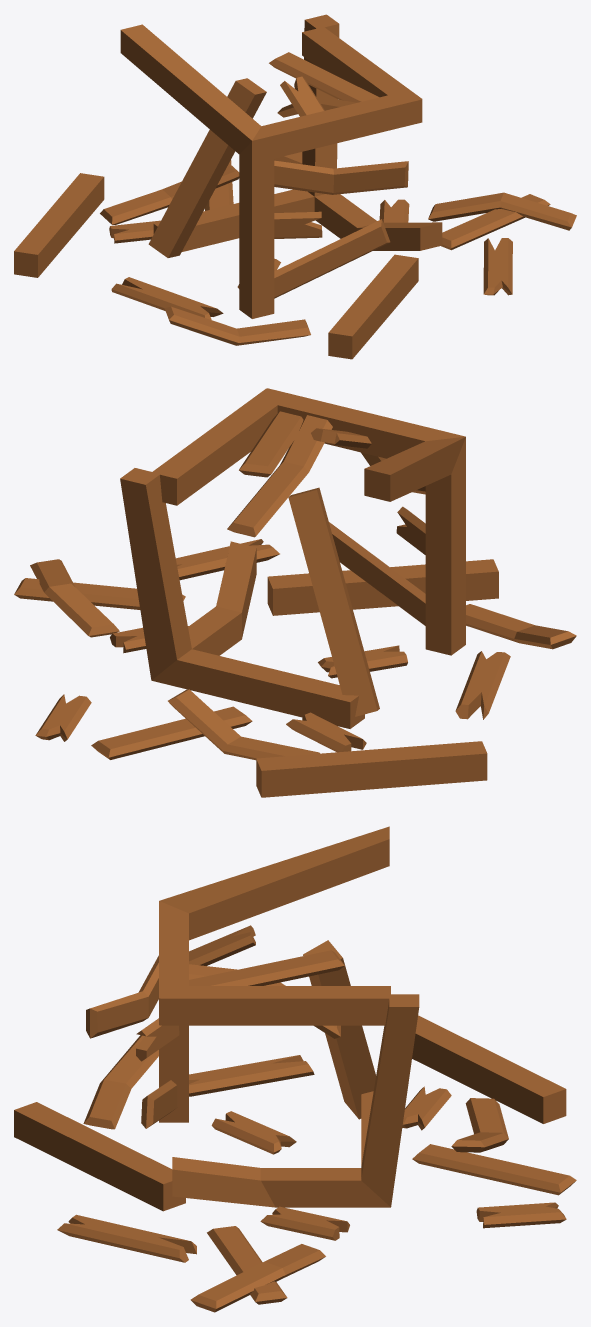
File: rubble_001.glb
3 views of the same model, one above another, from view 1: azimuth 30°, elevation 25°; view 2: azimuth 150°, elevation 25°; view 3: azimuth 270°, elevation 25° (orthographic). The views are drawn at different scales.
Visible parts, largest first — view 1: wooden box.016; view 2: wooden box.016; view 3: wooden box.016.
Boxes of the visible parts, x1,y1,x2,y2 form: wooden box.016: (14, 14, 576, 359); wooden box.016: (14, 388, 576, 797); wooden box.016: (14, 826, 576, 1312).
Bounding box in the file's own units: 1.54 × 0.7125 × 1.34.
